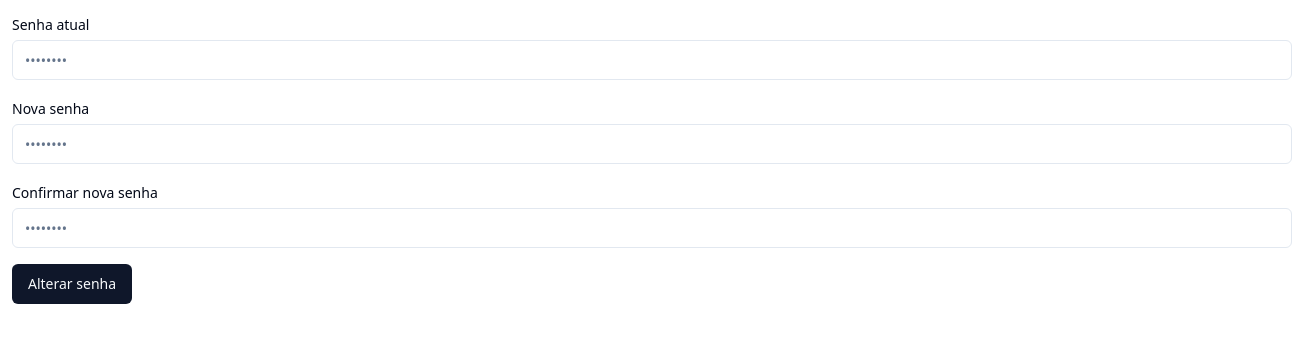
Scenario: PasswordForm › shows error when new password is too short
This screenshot has width=1304, height=349.
Type "senhaAtual" into the password field labelled "Senha atual".
click(652, 60); type("senhaAtual")  # box x1=12 y1=40 x2=1292 y2=80
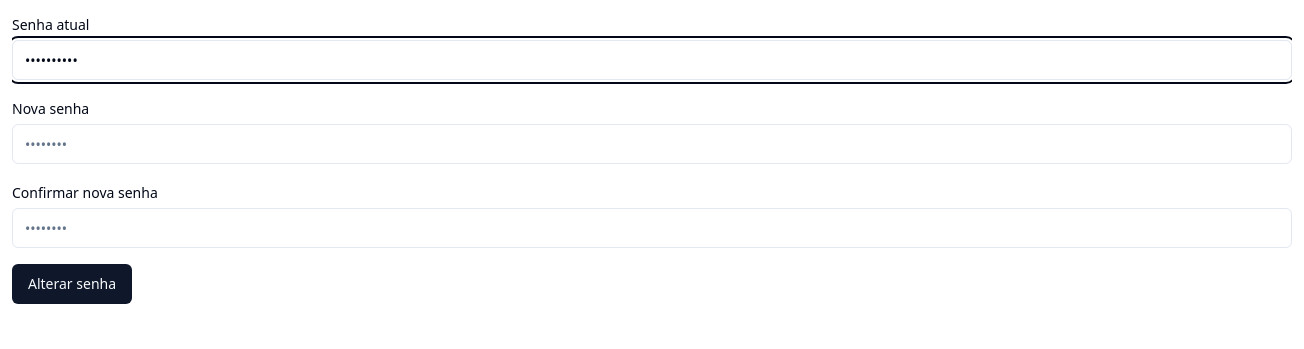
Type "curta" into the password field labelled "Nova senha".
click(652, 144); type("curta")  # box x1=12 y1=124 x2=1292 y2=164
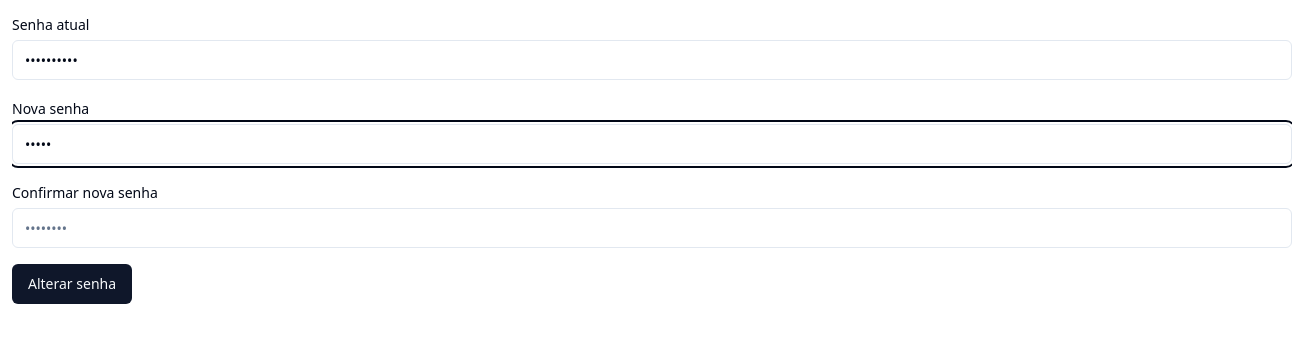
Type "curta" into the password field labelled "Confirmar nova senha".
click(652, 228); type("curta")  # box x1=12 y1=208 x2=1292 y2=248
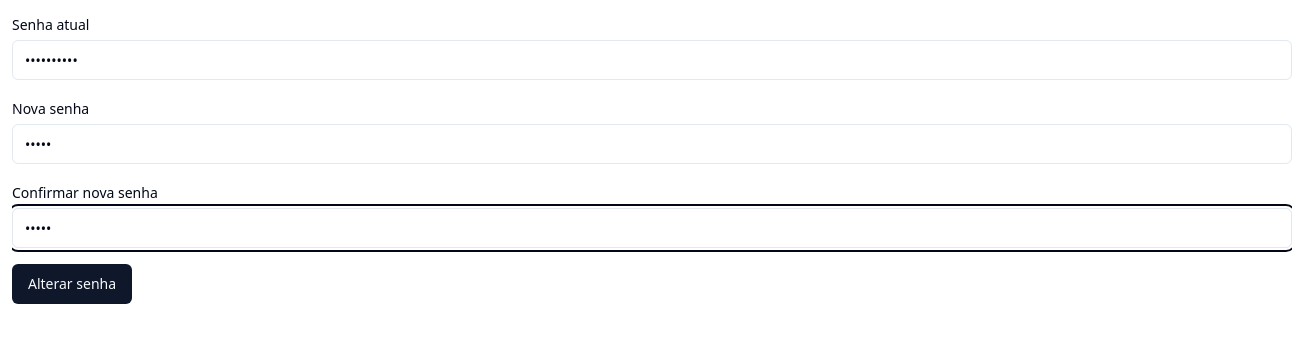
Click the button "Alterar senha".
click(72, 284)  # box x1=12 y1=264 x2=132 y2=304
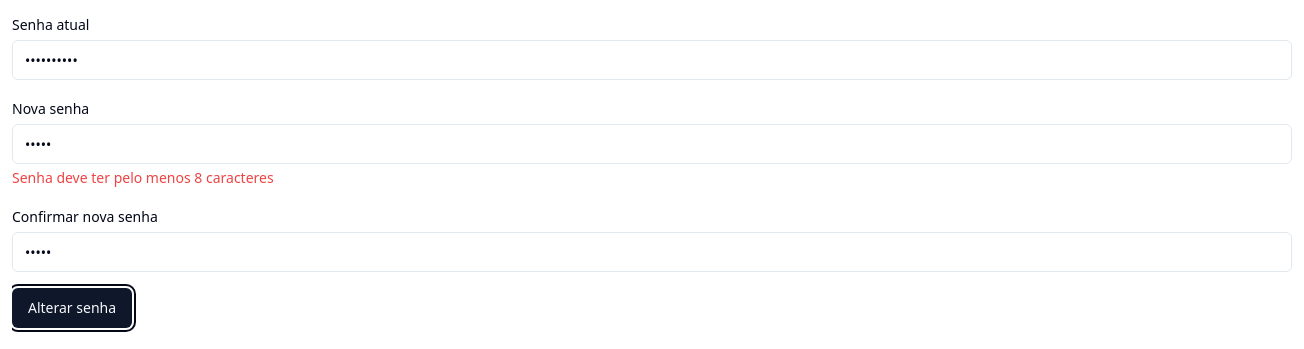
Result: the text "Senha deve ter pelo menos 8 caracteres" is shown at x1=12 y1=168 x2=274 y2=187
